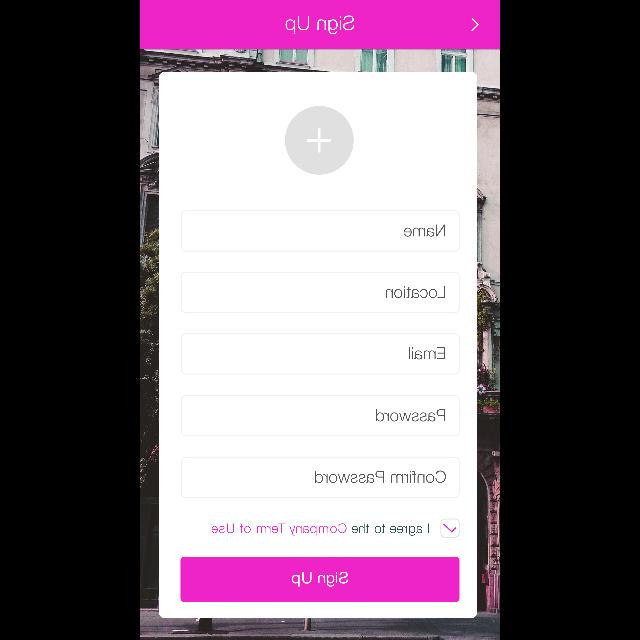checkbox: (440, 518, 460, 538)
icon: (284, 106, 354, 174), (471, 18, 479, 32)
input: (180, 210, 460, 252), (180, 457, 460, 498), (180, 334, 460, 374), (181, 272, 459, 312), (181, 396, 459, 436)
text: (211, 524, 429, 536), (314, 471, 446, 484), (286, 16, 354, 34), (376, 410, 446, 422), (386, 286, 446, 298), (404, 225, 444, 237), (408, 347, 446, 359)
textbutton: (180, 556, 460, 602)
